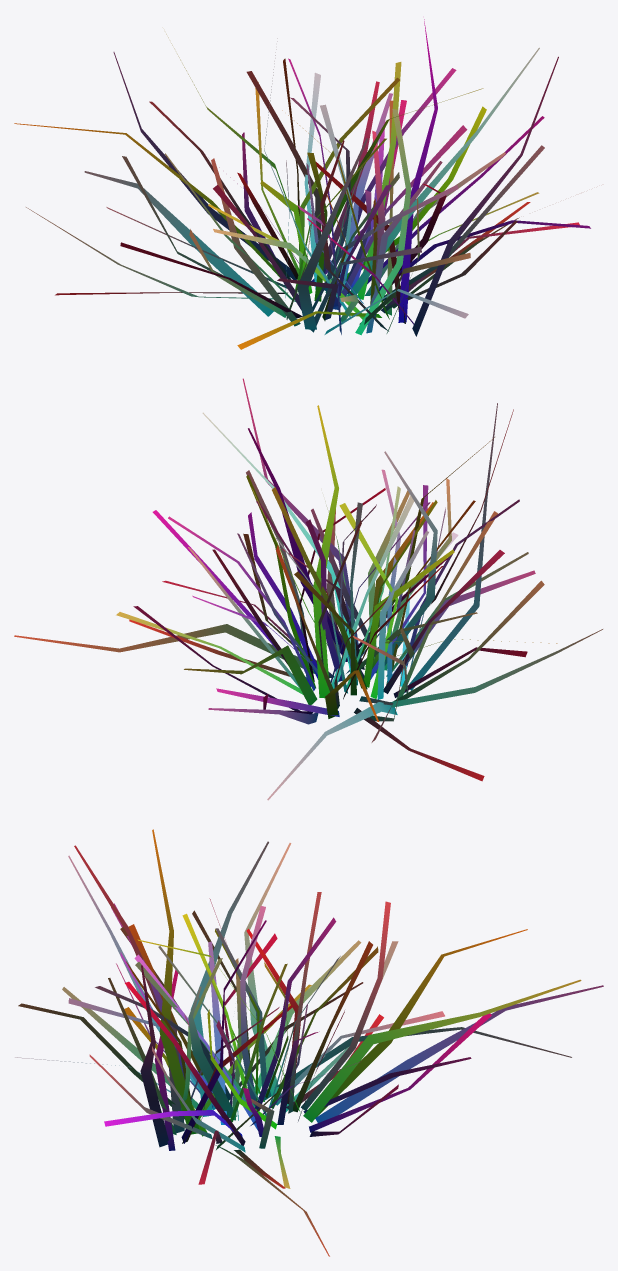
The model's file is Wild_Grass_vlkhcbxia_Low_vlkhcbxia_VarE_LOD1.fbx.
The picture shows the model from 3 angles, top to bottom: view 1: azimuth 30°, elevation 25°; view 2: azimuth 150°, elevation 25°; view 3: azimuth 270°, elevation 25°; orthographic projection. The views are drawn at different scales.
Parts seen in each view (by area): view 1: _g7ed_VarE_LOD3; view 2: _g7ed_VarE_LOD3; view 3: _g7ed_VarE_LOD3.
Part boxes in pixels (x1,y1,x2,y2): _g7ed_VarE_LOD3: (14,19,590,349); _g7ed_VarE_LOD3: (14,378,602,800); _g7ed_VarE_LOD3: (15,829,603,1256).
Size of the model in its own units: 40.59 by 18.14 by 36.07.
